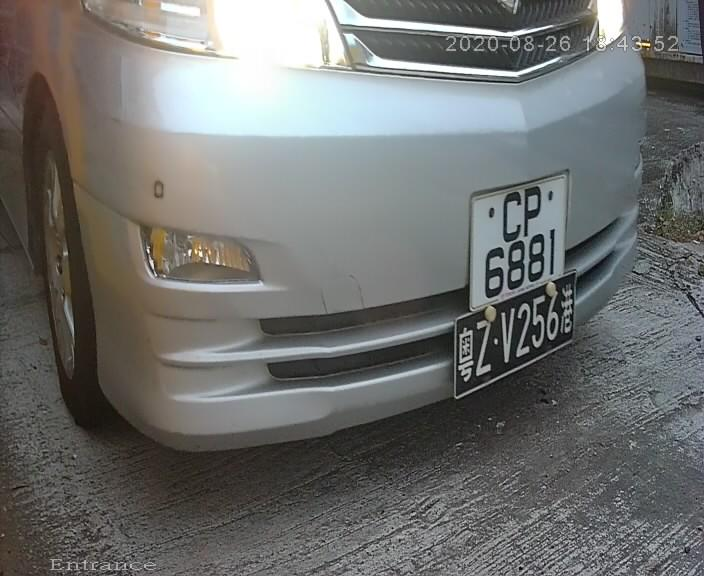License Plate: (459, 163, 573, 327)
